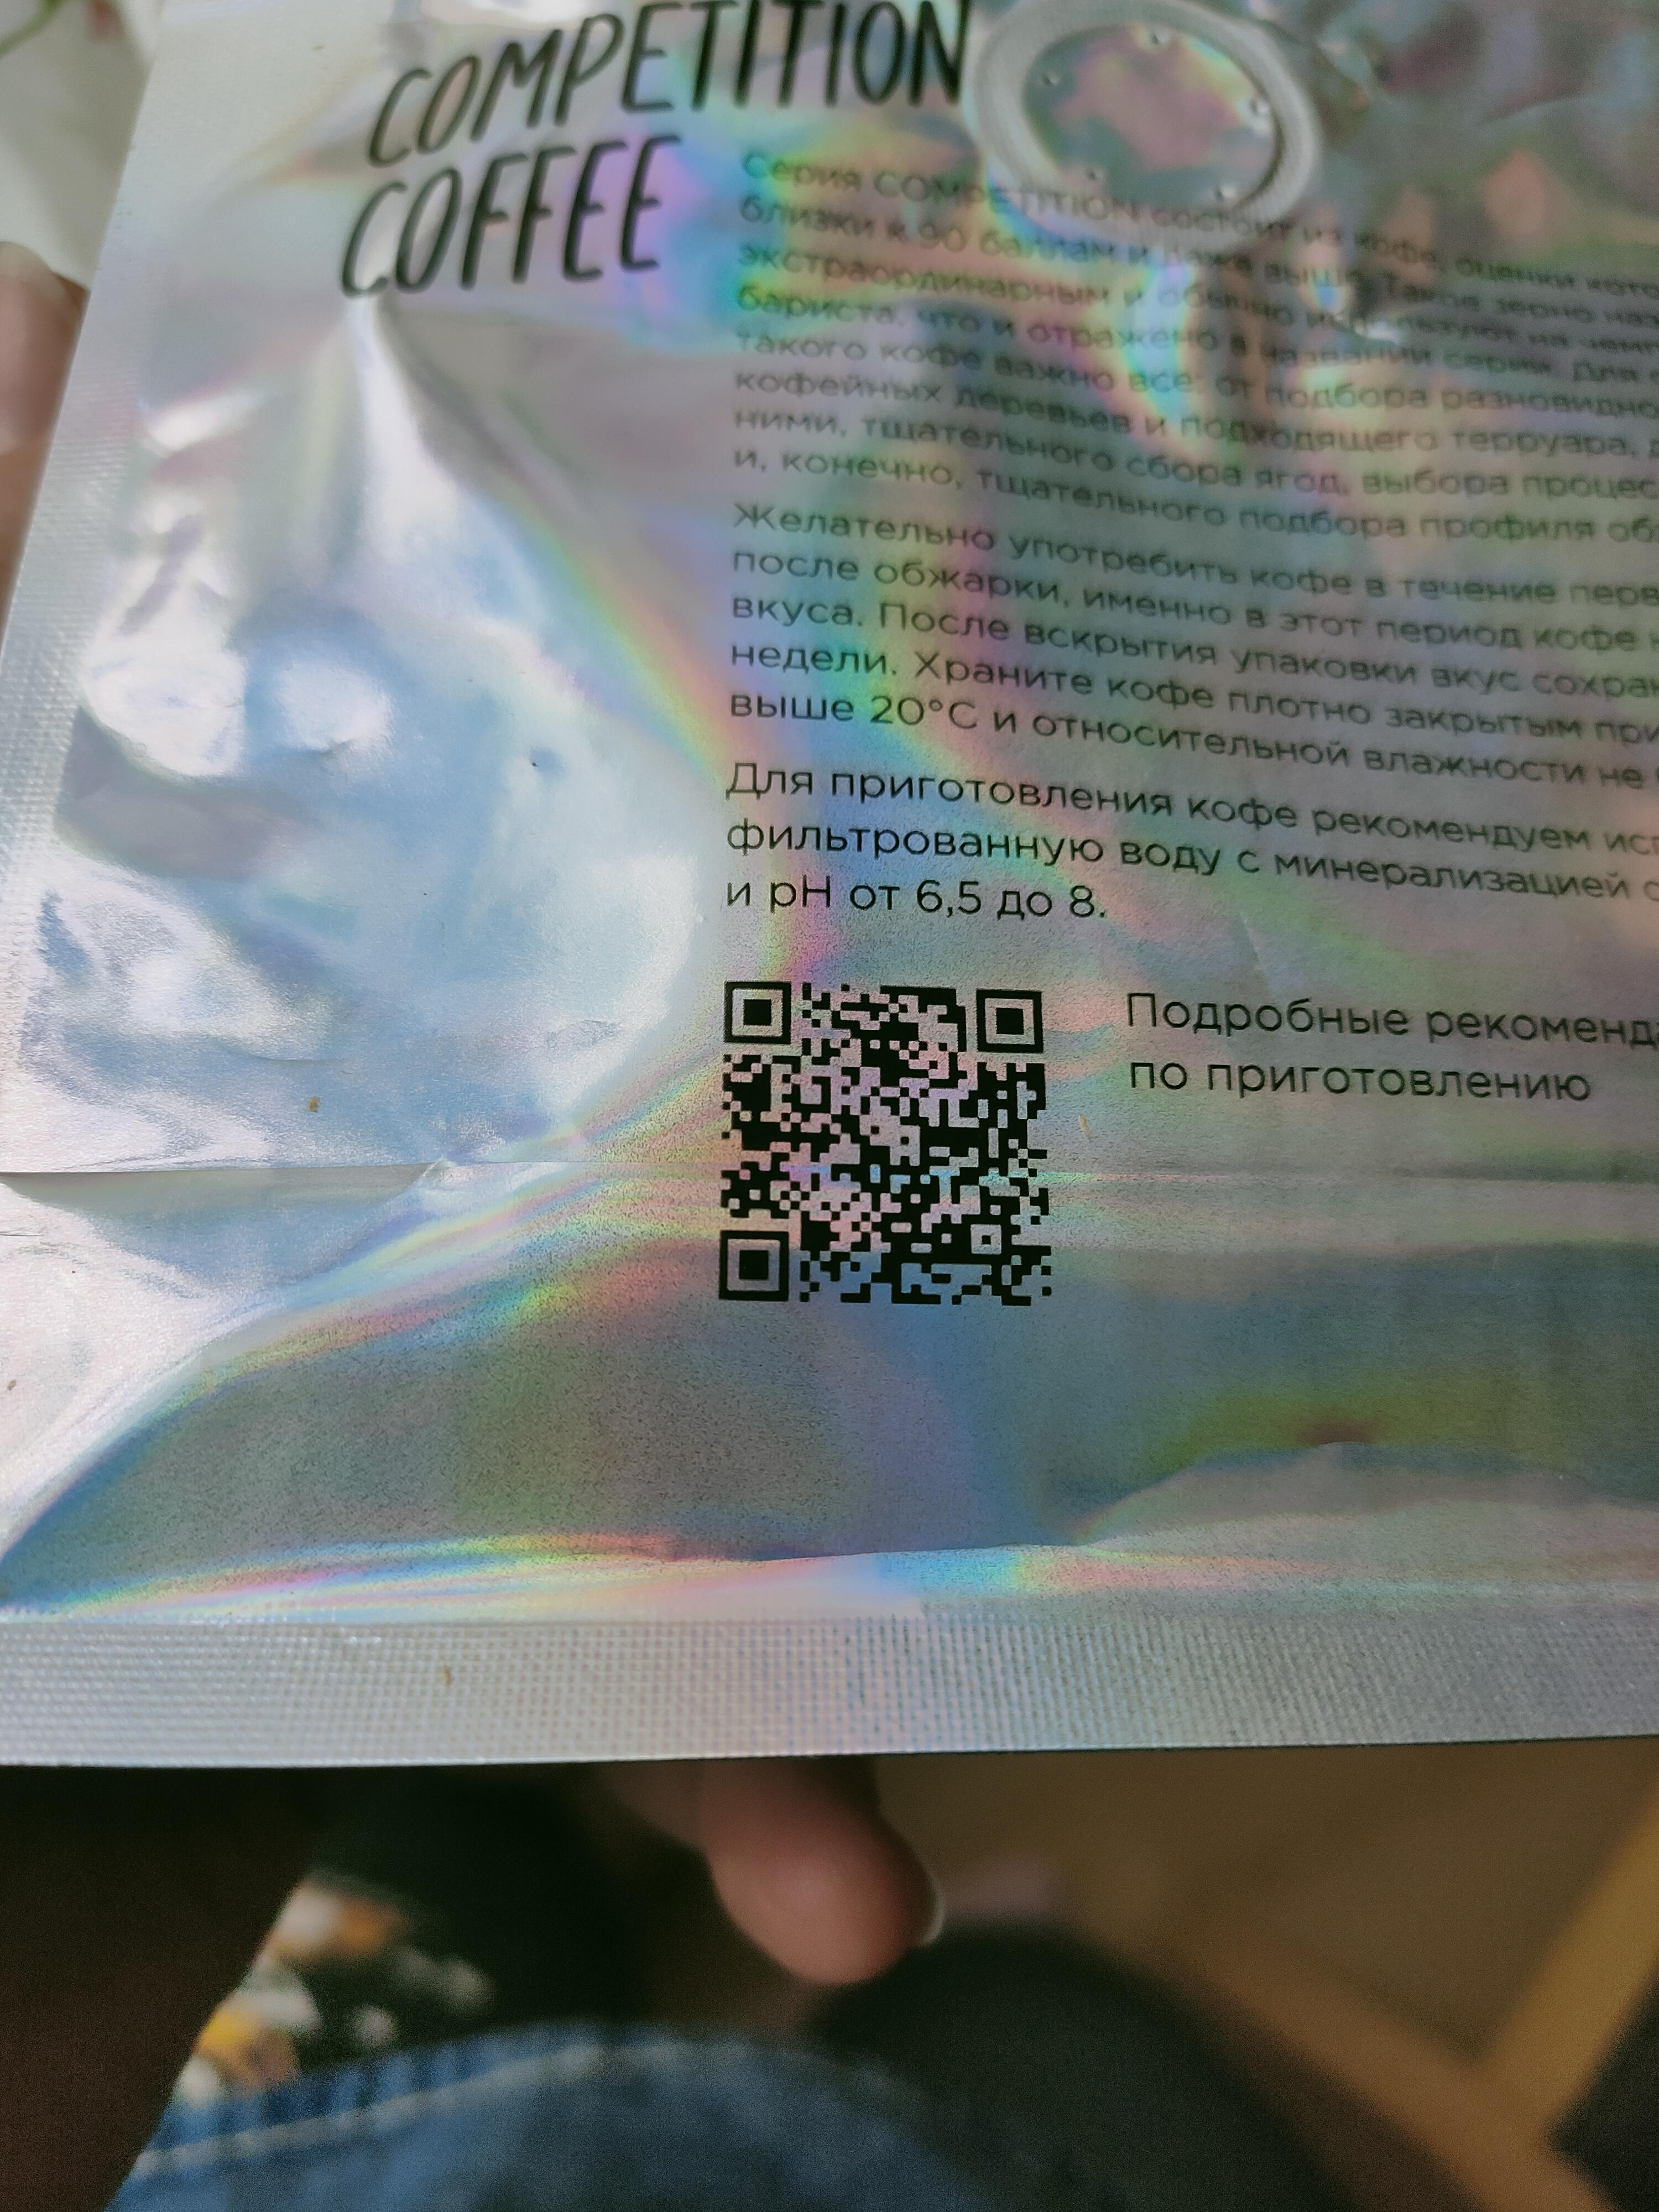qrcode: (721, 974, 1056, 1312)
